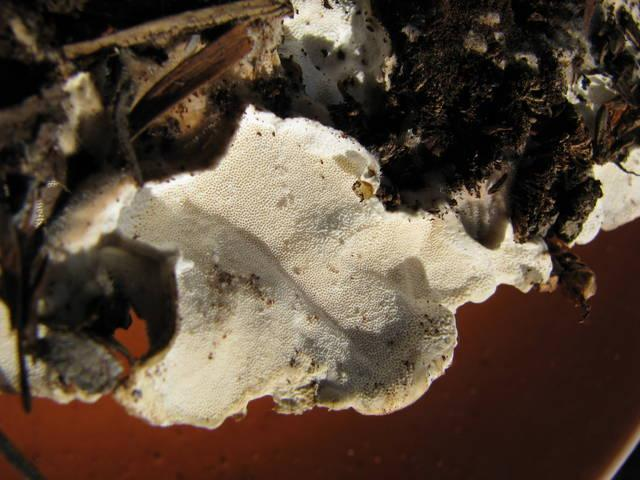poisonous_mushroom: (5, 101, 555, 430)
